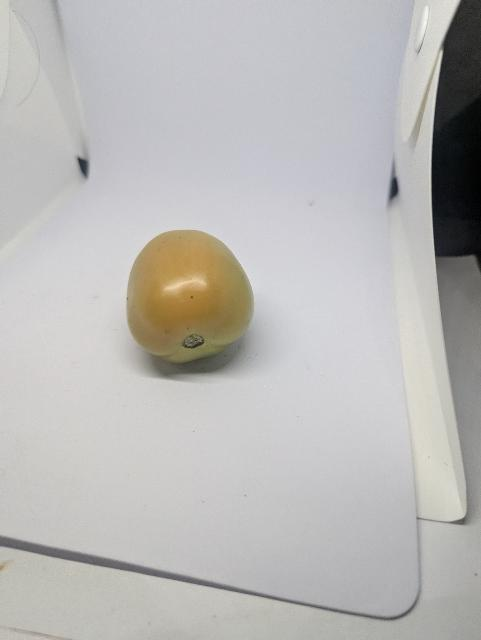breaker: (122, 224, 266, 379)
